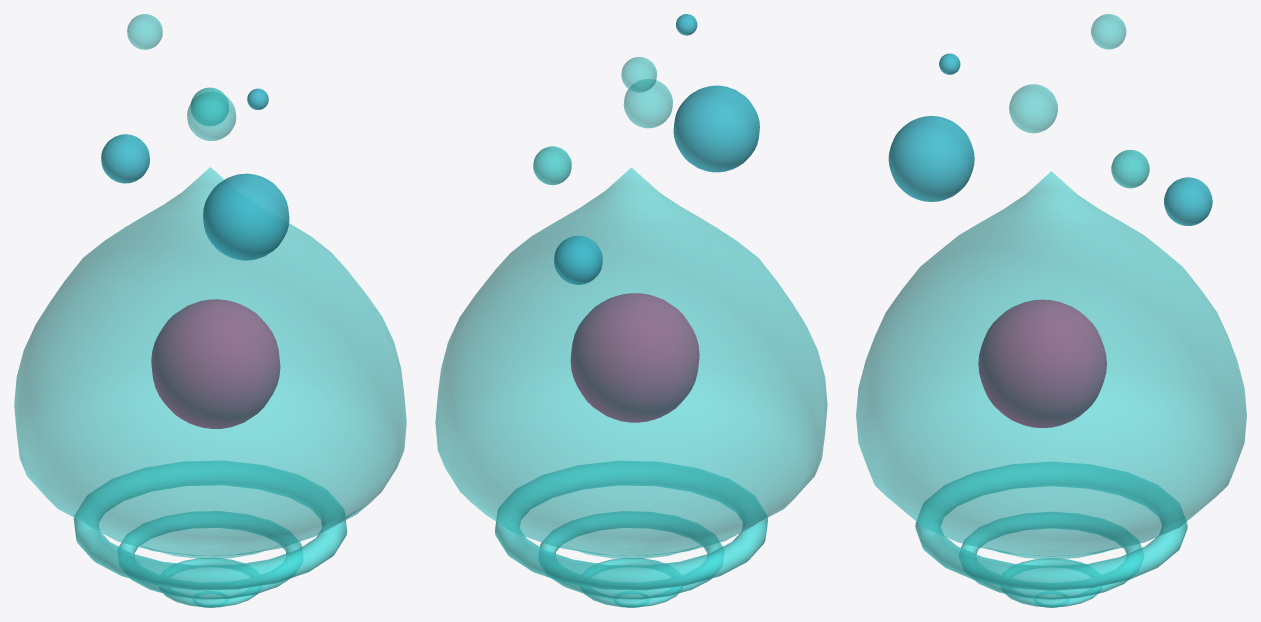
The model's file is Slime.fbx.
The picture shows the model from 3 angles, left to right: view 1: azimuth 30°, elevation 25°; view 2: azimuth 150°, elevation 25°; view 3: azimuth 270°, elevation 25°; orthographic projection.
Visible parts, largest first — view 1: pSphere1, pTorus1, pSphere8, pTorus2, pSphere2, pSphere3, pSphere5, pTorus3, pSphere6, pSphere4; view 2: pSphere1, pTorus1, pSphere8, pTorus2, pSphere2, pSphere3, pSphere5, pTorus3, pSphere6, pSphere4; view 3: pSphere1, pTorus1, pSphere8, pTorus2, pSphere2, pSphere3, pSphere5, pTorus3, pSphere6, pSphere4.
Boxes of the visible parts, <box> form: pSphere1: <box>14,167,406,558</box>; pTorus1: <box>73,461,347,590</box>; pSphere8: <box>151,299,280,428</box>; pTorus2: <box>118,511,302,599</box>; pSphere2: <box>203,173,289,260</box>; pSphere3: <box>187,91,236,140</box>; pSphere5: <box>101,134,149,183</box>; pTorus3: <box>159,558,261,607</box>; pSphere6: <box>190,87,228,125</box>; pSphere4: <box>127,14,162,49</box>; pSphere1: <box>435,167,827,558</box>; pTorus1: <box>495,461,767,590</box>; pSphere8: <box>570,293,699,422</box>; pTorus2: <box>539,511,723,599</box>; pSphere2: <box>673,85,759,172</box>; pSphere3: <box>623,79,672,128</box>; pSphere5: <box>554,235,602,284</box>; pTorus3: <box>580,558,682,607</box>; pSphere6: <box>533,146,571,185</box>; pSphere4: <box>621,57,656,92</box>; pSphere1: <box>856,171,1246,559</box>; pTorus1: <box>915,462,1187,590</box>; pSphere8: <box>978,299,1106,427</box>; pTorus2: <box>959,512,1143,599</box>; pSphere2: <box>888,116,974,201</box>; pSphere3: <box>1009,84,1057,133</box>; pSphere5: <box>1164,177,1212,225</box>; pTorus3: <box>1001,558,1101,607</box>; pSphere6: <box>1111,150,1149,188</box>; pSphere4: <box>1091,14,1126,49</box>.
Bounding box in the file's own units: 2 × 3.2 × 2.
